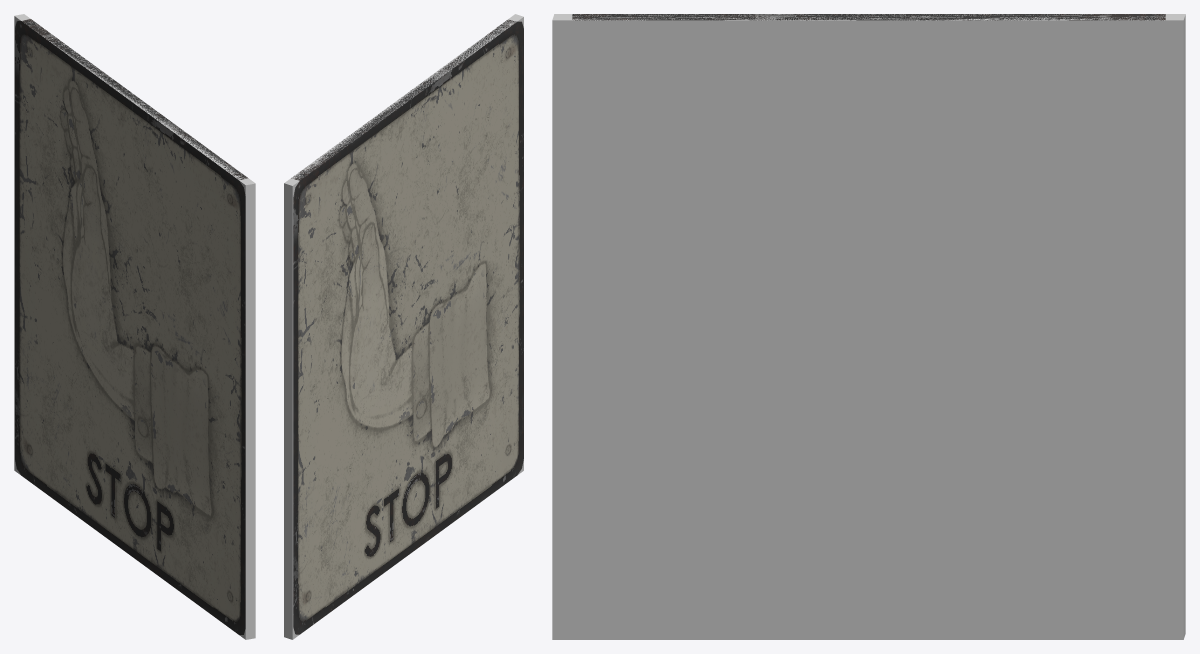
The model's file is SM_WaySign_C.fbx.
The picture shows the model from 3 angles, left to right: view 1: azimuth 30°, elevation 25°; view 2: azimuth 150°, elevation 25°; view 3: azimuth 270°, elevation 25°; orthographic projection. The views are drawn at different scales.
Visible parts, largest first — view 1: SM_WaySign_C_LOD0, SM_WaySign_C_ConvexHulls; view 2: SM_WaySign_C_LOD0, SM_WaySign_C_ConvexHulls; view 3: SM_WaySign_C_ConvexHulls, SM_WaySign_C_LOD0.
Part boxes in pixels (<box>): SM_WaySign_C_LOD0: <box>15,19,247,634</box>; SM_WaySign_C_ConvexHulls: <box>14,14,255,639</box>; SM_WaySign_C_LOD0: <box>291,19,523,634</box>; SM_WaySign_C_ConvexHulls: <box>284,14,523,639</box>; SM_WaySign_C_ConvexHulls: <box>552,14,1185,639</box>; SM_WaySign_C_LOD0: <box>572,14,1165,20</box>.
Bounding box in the file's own units: 1.16 × 50.01 × 54.
